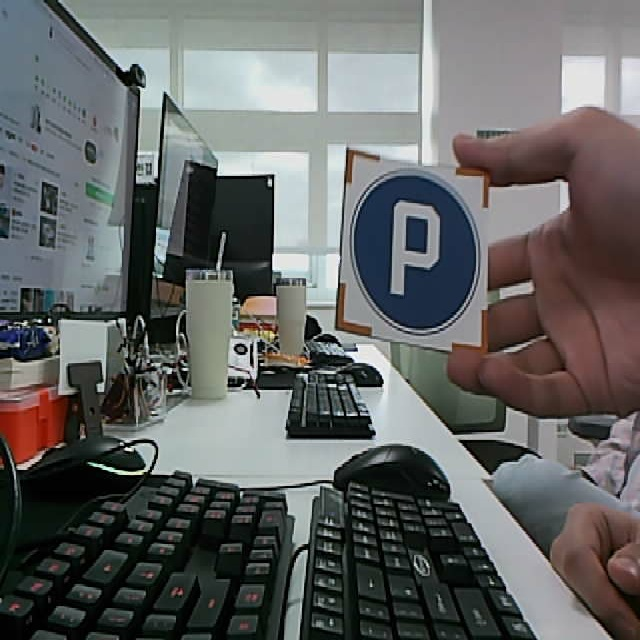parking: (335, 147, 489, 360)
